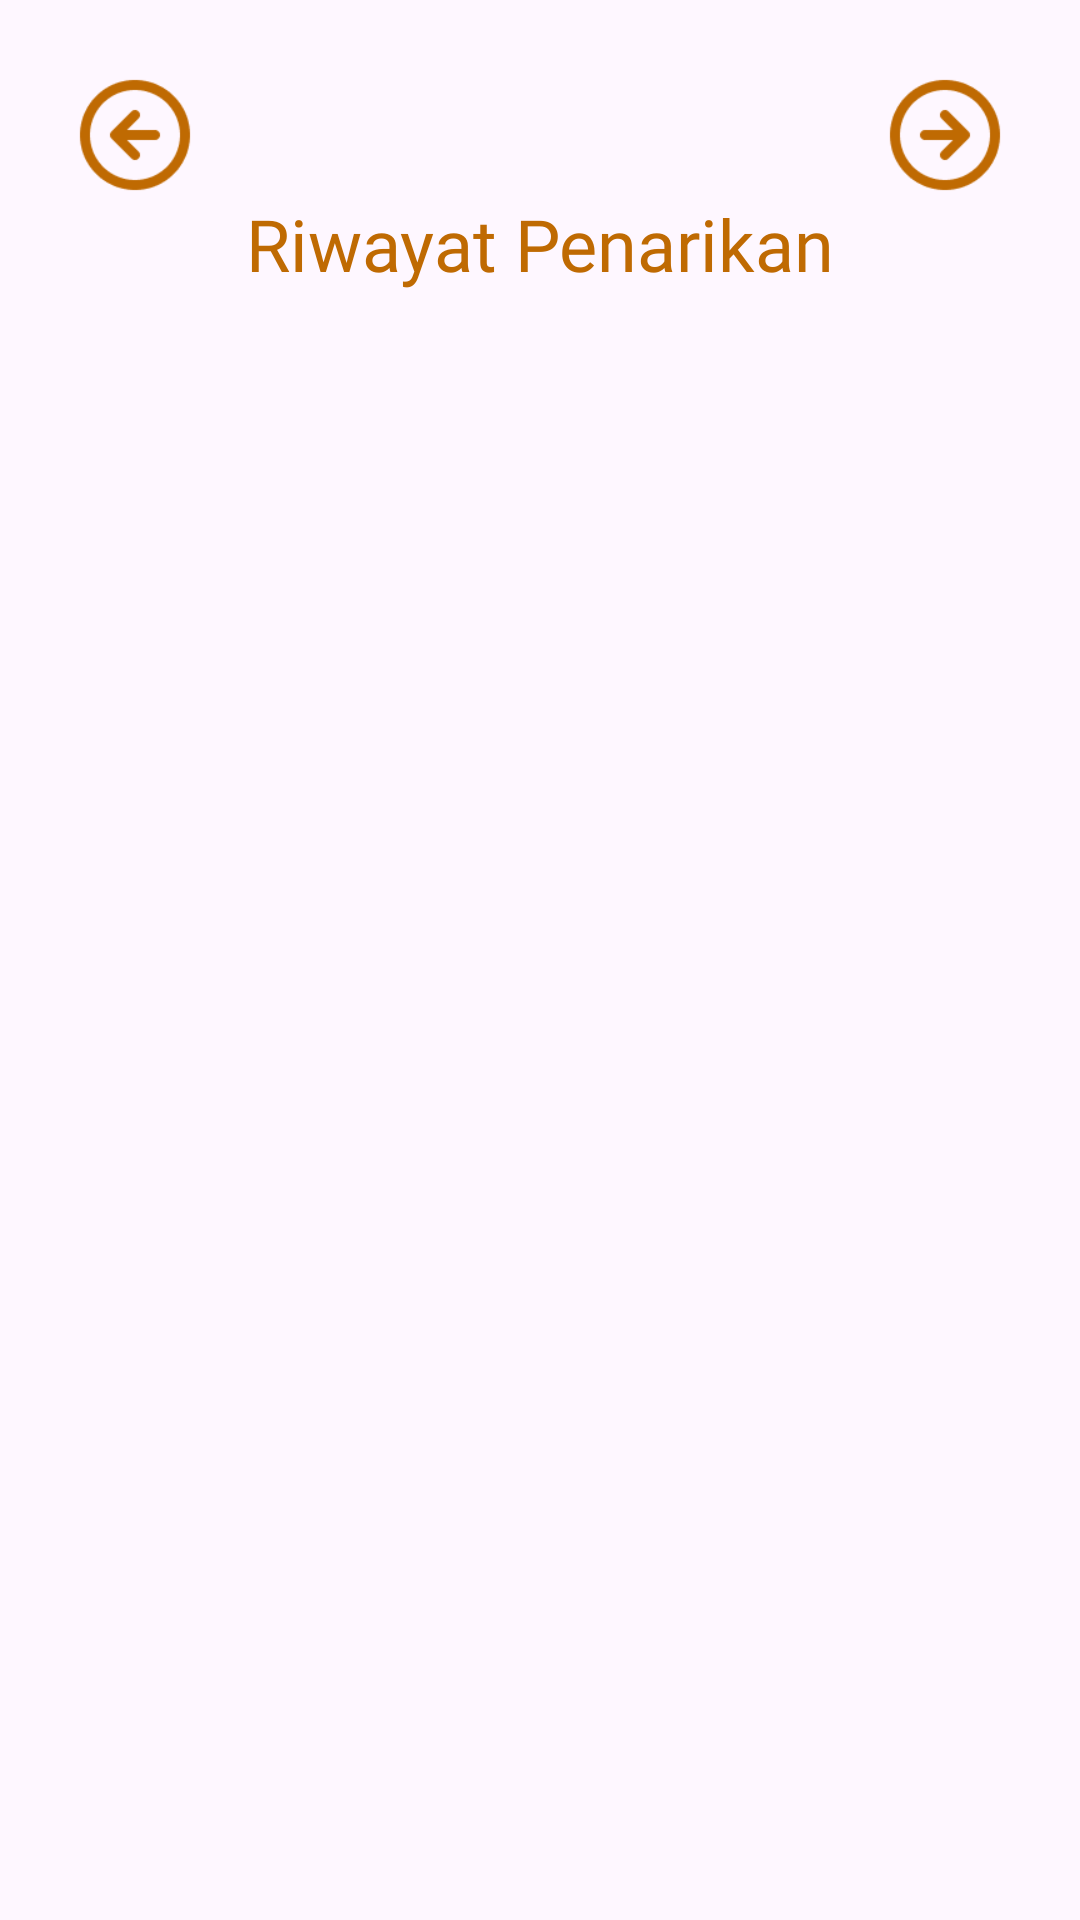

Named icons in this screenshot (1080 x 1920) and their bounding boxes, {"x1": x1, "y1": y1, "x2": x2, "y2": y2}:
back: {"x1": 79, "y1": 79, "x2": 191, "y2": 191}
next: {"x1": 889, "y1": 79, "x2": 1001, "y2": 191}
